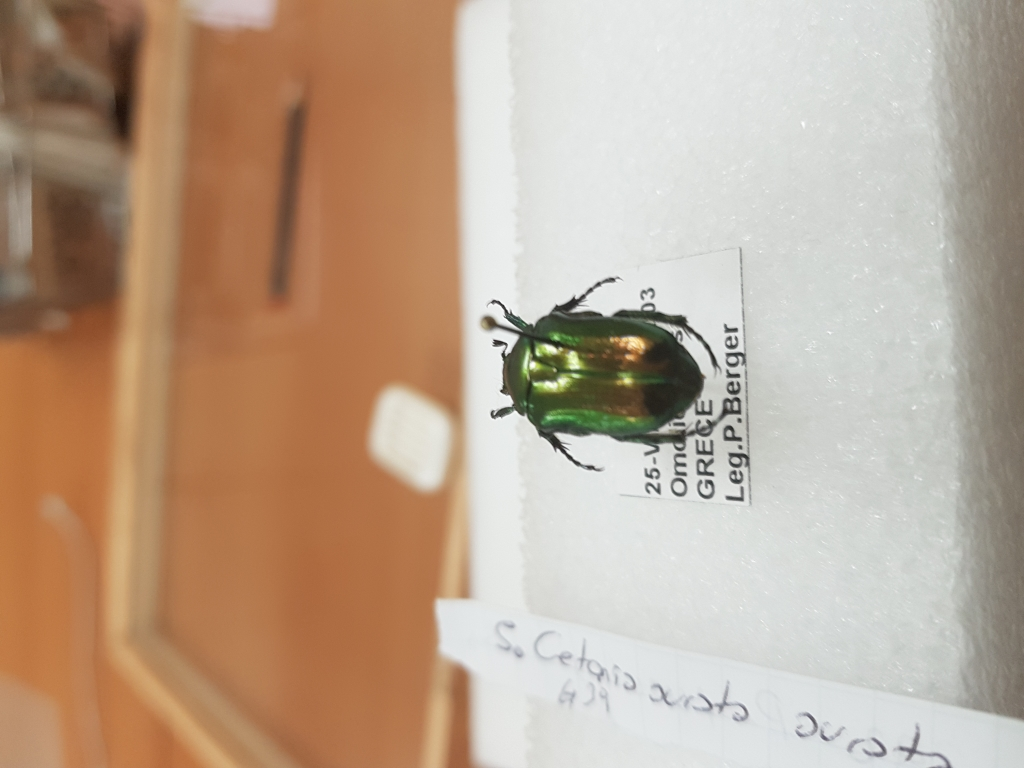Cetonia_aurata: (487, 268, 733, 473)
